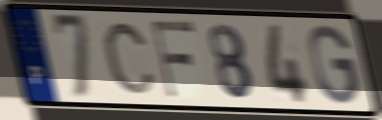4: (265, 21, 311, 106)
7: (48, 10, 93, 103)
8: (208, 22, 255, 102)
C: (101, 20, 158, 97)
F: (149, 19, 198, 101)
G: (306, 23, 361, 107)
